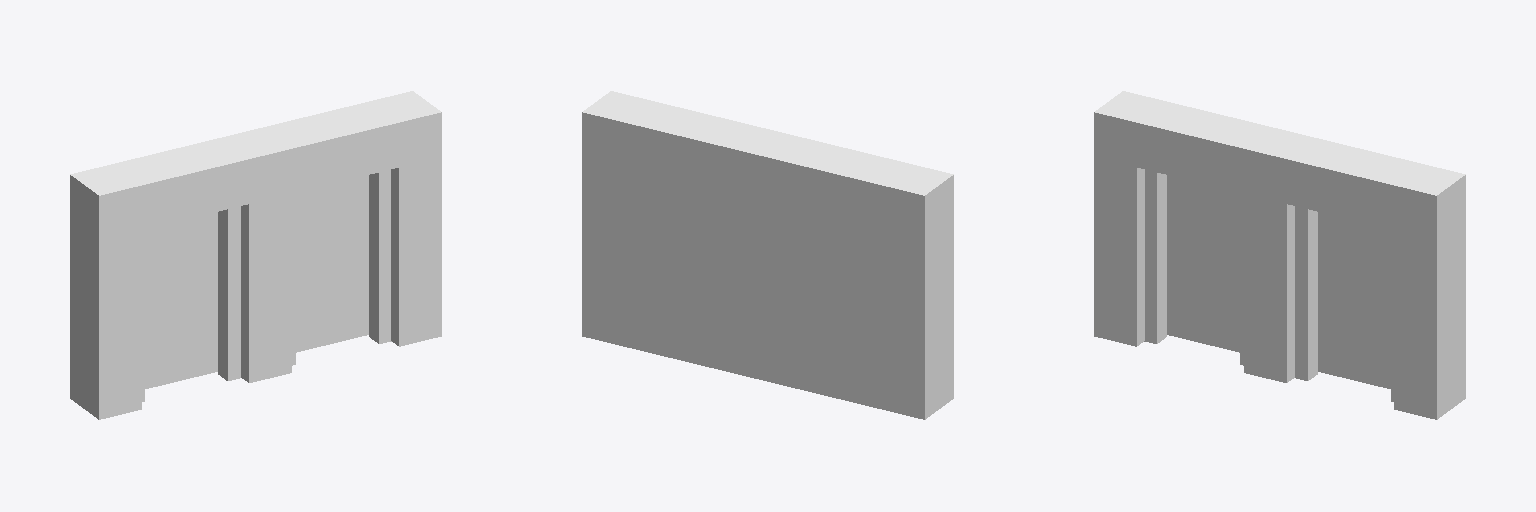
File: windows_tall_top.obj
3 views of the same model, side by side, from view 1: azimuth 30°, elevation 25°; view 2: azimuth 150°, elevation 25°; view 3: azimuth 330°, elevation 25° (orthographic).
Visible parts, largest first — view 1: building-windows-high-top-square; view 2: building-windows-high-top-square; view 3: building-windows-high-top-square.
Boxes of the visible parts, <box> form: building-windows-high-top-square: <box>70,91,441,419</box>; building-windows-high-top-square: <box>582,91,953,419</box>; building-windows-high-top-square: <box>1094,91,1465,419</box>.
Size of the model in its own units: 1 by 0.6281 by 0.1476.